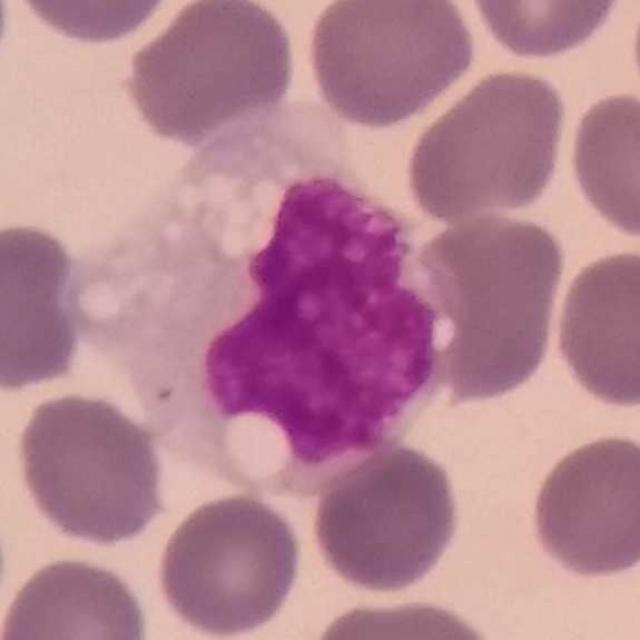mono: (58, 107, 470, 507)
